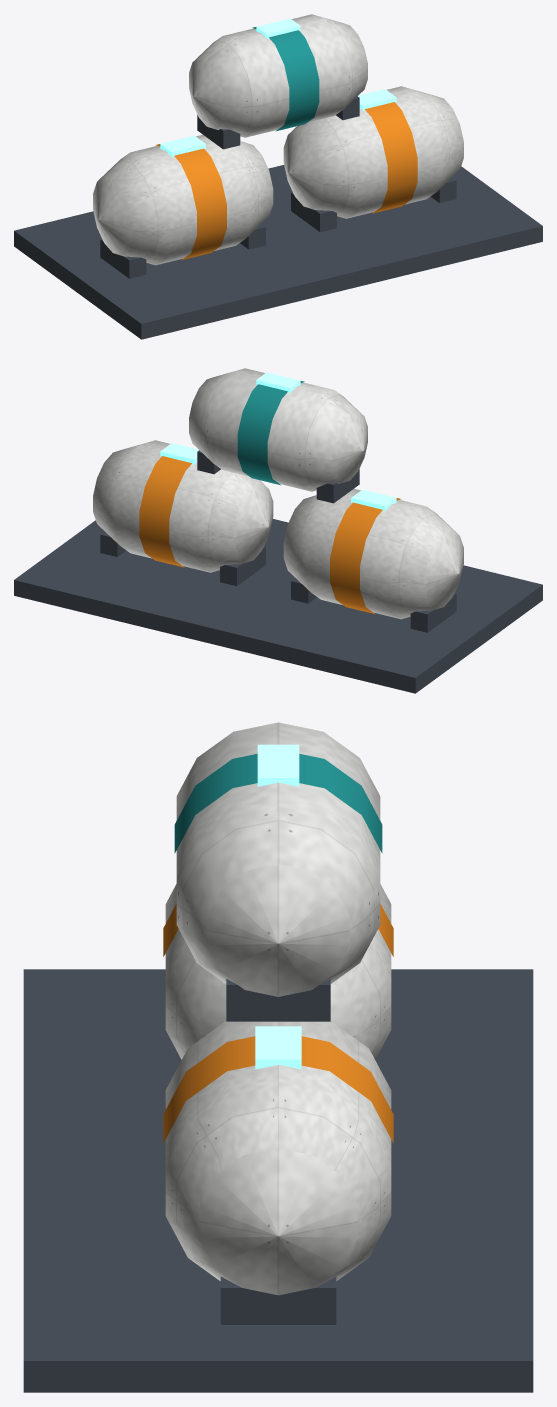
Rendered from prop_cargo_stack.glb.
The picture shows the model from 3 angles, top to bottom: view 1: azimuth 30°, elevation 25°; view 2: azimuth 150°, elevation 25°; view 3: azimuth 270°, elevation 25°; orthographic projection. The views are drawn at different scales.
Visible parts, largest first — view 1: prop_cargo_stack_LOD0; view 2: prop_cargo_stack_LOD0; view 3: prop_cargo_stack_LOD0.
Boxes of the visible parts, left/top/right/bottom form: prop_cargo_stack_LOD0: left=14, top=14, right=542, bottom=339; prop_cargo_stack_LOD0: left=14, top=368, right=542, bottom=693; prop_cargo_stack_LOD0: left=23, top=722, right=533, bottom=1392.
Size of what is drawn, in the model's own units: 8 by 4.14 by 4.4.
2 materials, 2 textured.
